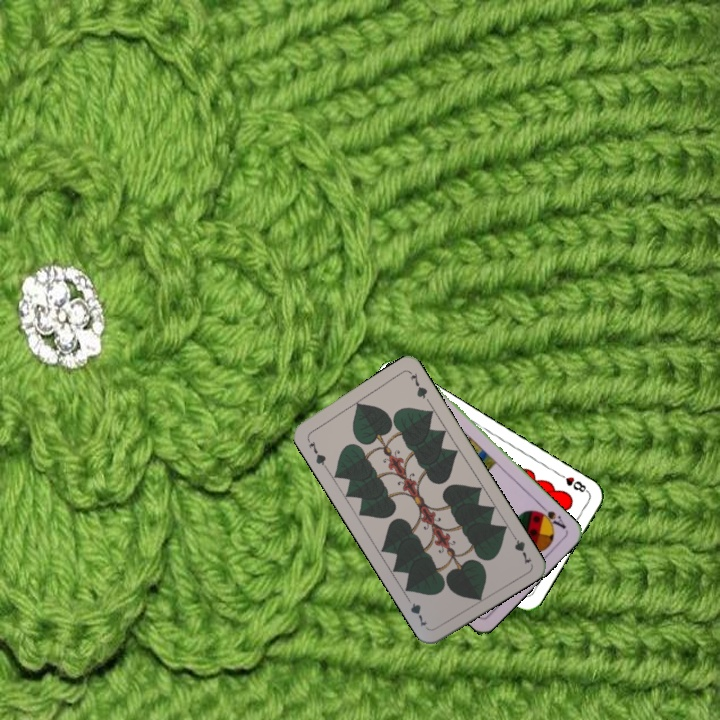G7: (507, 529, 534, 567), (303, 434, 329, 471)
H8: (554, 469, 591, 495)
SA: (532, 500, 569, 531)
